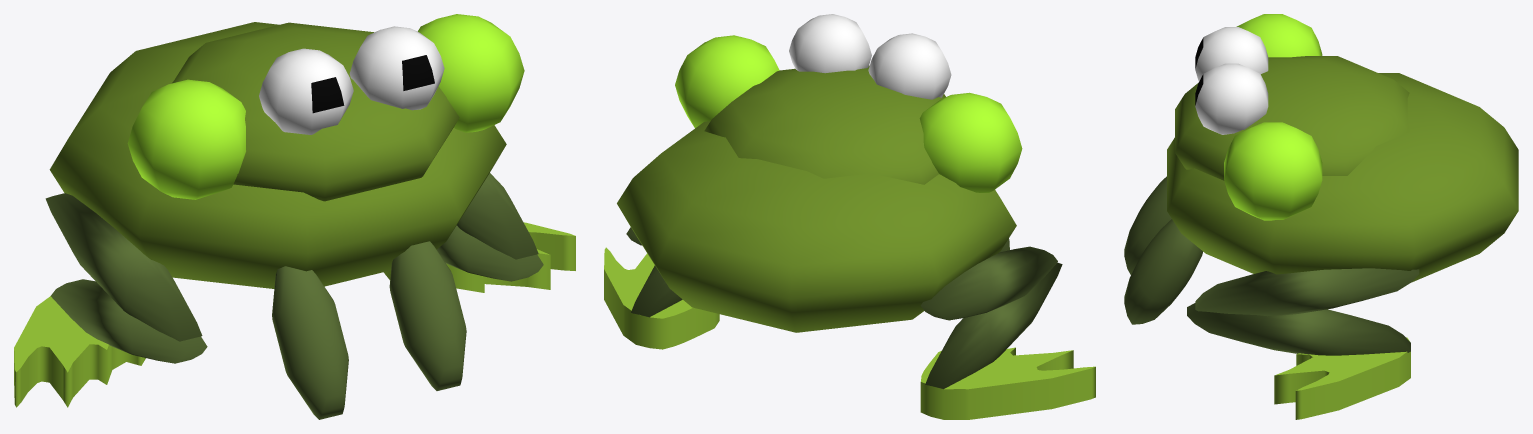
File: the+frog_warehouse.fbx
3 renders of one model, left to right at view 1: azimuth 30°, elevation 25°; view 2: azimuth 150°, elevation 25°; view 3: azimuth 270°, elevation 25°, orthographic. The views are drawn at different scales.
Visible parts, largest first — view 1: Group1, Group16, Group5, Group10, Group3, Group13, Group7, Group11, Group14, Group8; view 2: Group1, Group13, Group5, Group3, Group7, Group10, Group14, Group8; view 3: Group1, Group3, Group11, Group8, Group16, Group14, Group5.
Part boxes in pixels (x1,y1,x2,y2): Group1: (49,22,506,288); Group16: (272,241,466,419); Group5: (127,79,245,199); Group10: (45,193,202,341); Group3: (418,14,524,132); Group13: (14,296,145,407); Group7: (51,279,207,363); Group11: (457,173,538,259); Group14: (383,222,575,292); Group8: (437,225,543,281); Group1: (617,14,1016,332); Group13: (920,347,1095,419); Group5: (919,92,1022,192); Group3: (675,35,779,128); Group7: (925,262,1062,388); Group10: (920,246,1057,320); Group14: (604,247,719,349); Group8: (631,265,682,317); Group1: (1167,27,1518,282); Group3: (1224,122,1322,220); Group11: (1195,268,1419,316); Group8: (1187,303,1410,355); Group16: (1124,176,1202,324); Group14: (1274,337,1410,419); Group5: (1236,14,1322,57).
Size of the model in its own units: 0.3328 by 0.1821 by 0.2461.
